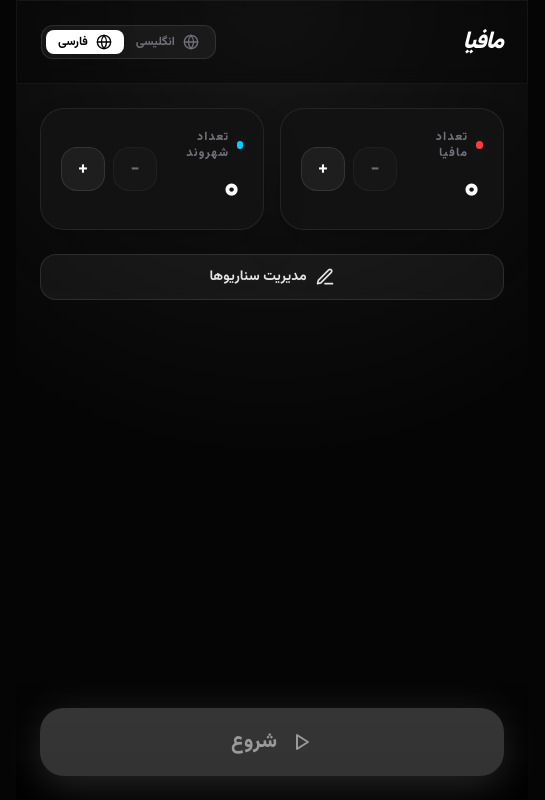
Test case: Setup Screen › shows mafia role inputs when mafia count > 0
Click the button named "افزایش" at (323, 169), box [301, 147, 345, 191]
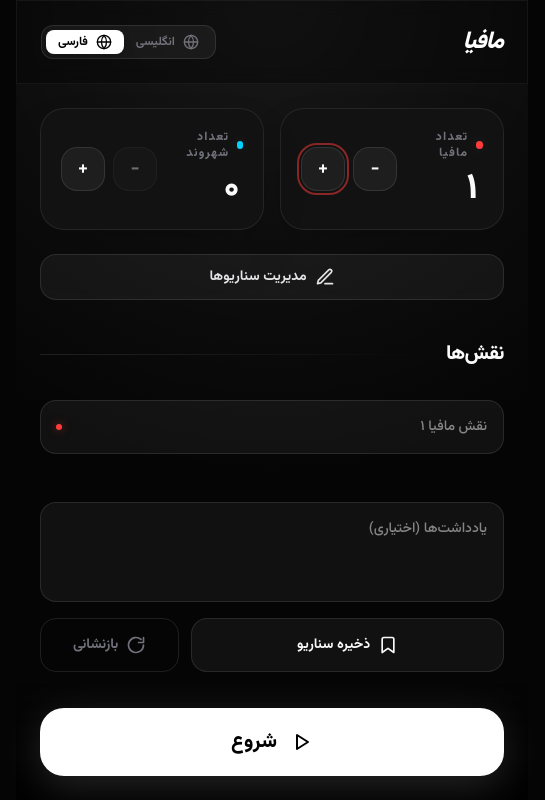
Click the button named "افزایش" at (323, 169), box [301, 147, 345, 191]
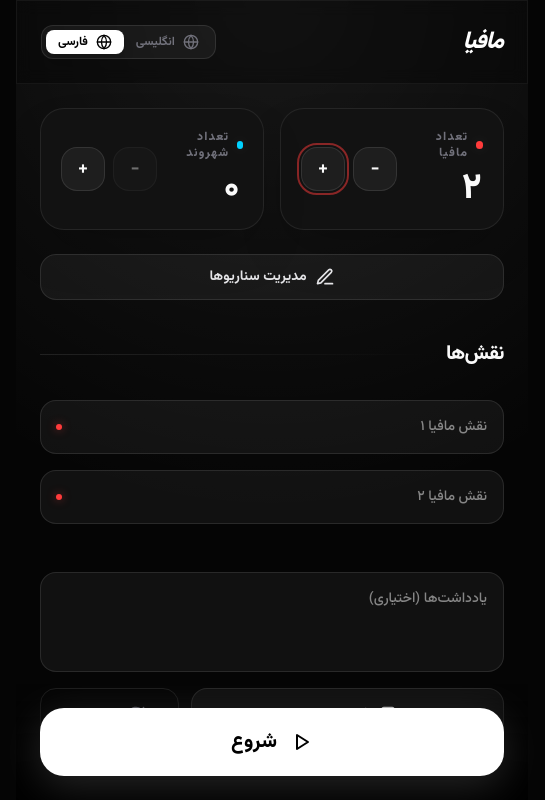
Expected: the number of fields with placeholder "نقش مافیا ۱" is 2, [40, 400, 504, 454]; [40, 470, 504, 524]
